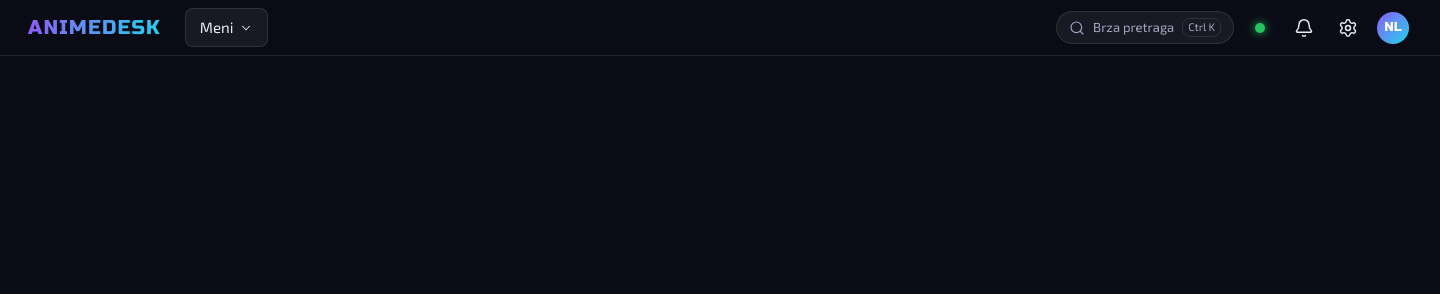
Scenario: TopBar › narrow window › shows one Menu button with the five pages
This screenshot has width=1440, height=294.
Expected: the button "Početna" is not shown
Expected: the button "Otkrij" is not shown
What coordinates should you click on to do the following:
click the button "Meni"
I would click on:
 (227, 28)
Its box is [185,8,268,47].
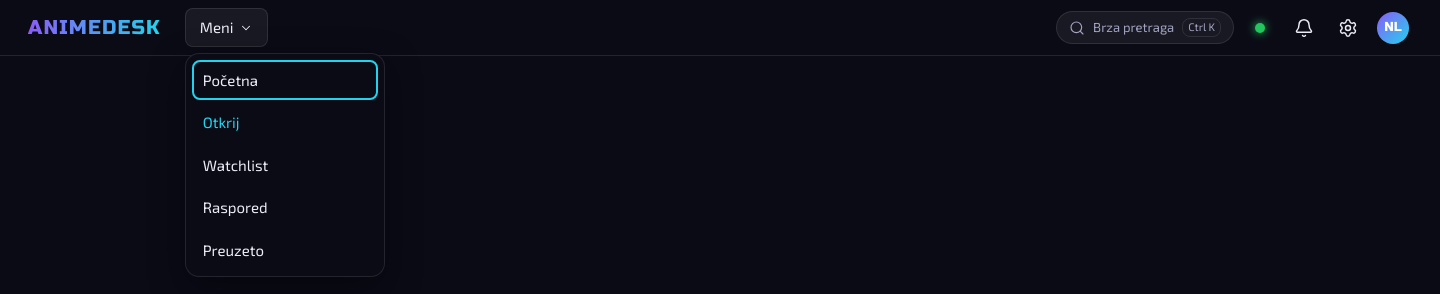
Expected: the menu items read "Početna", "Otkrij", "Watchlist", "Raspored", "Preuzeto", in this order
What coordinates should you click on to do the following:
click the menu item "Watchlist"
I would click on:
 (285, 165)
Its box is [192,145,378,185].
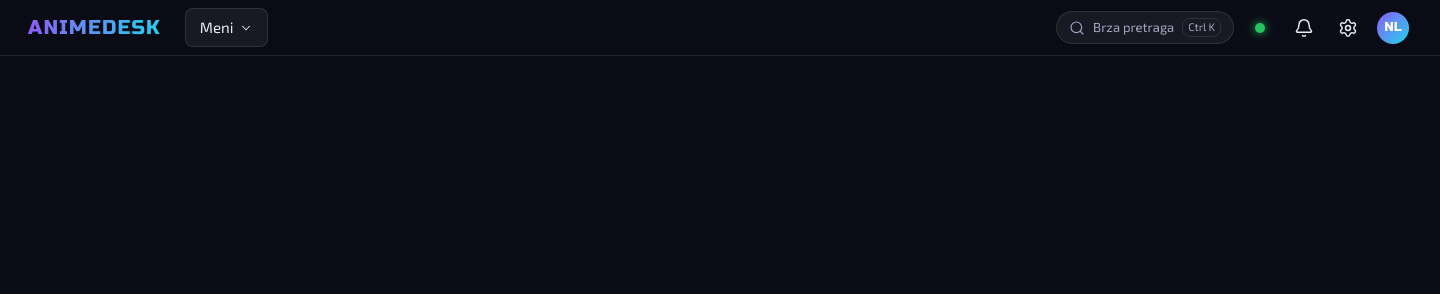
Expected: the menu is gone
